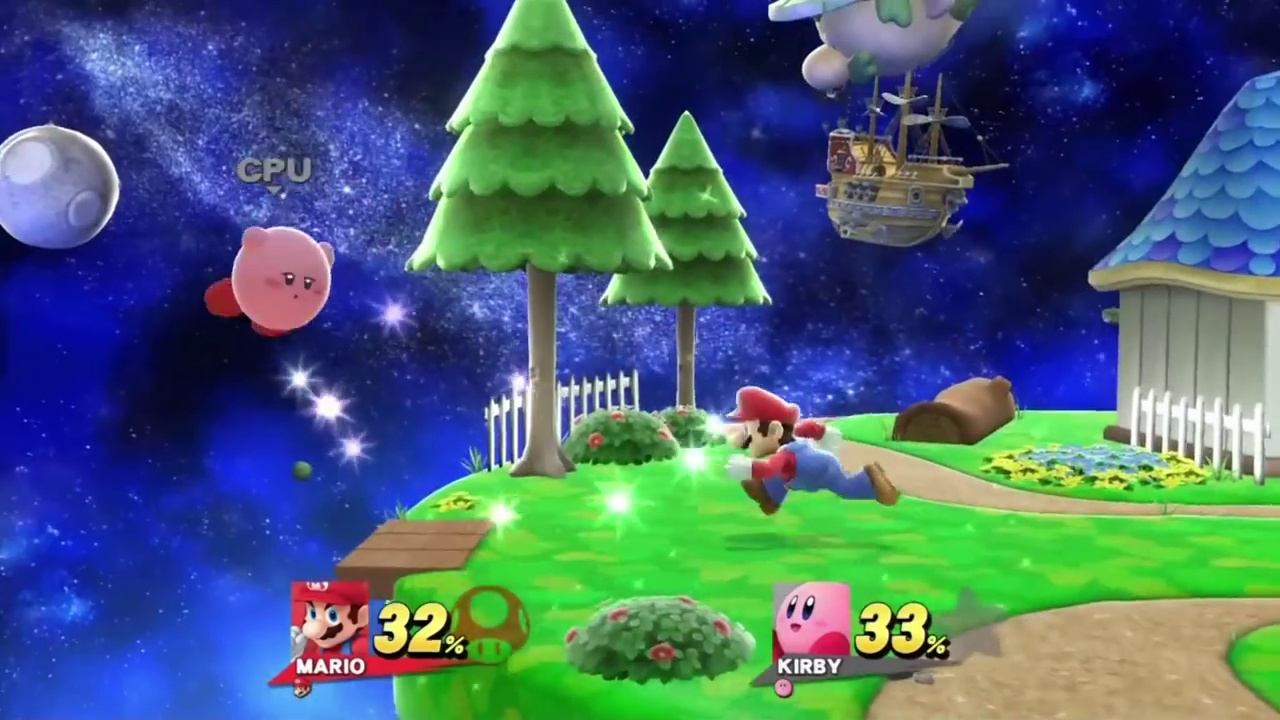Mario: (728, 385, 899, 516)
